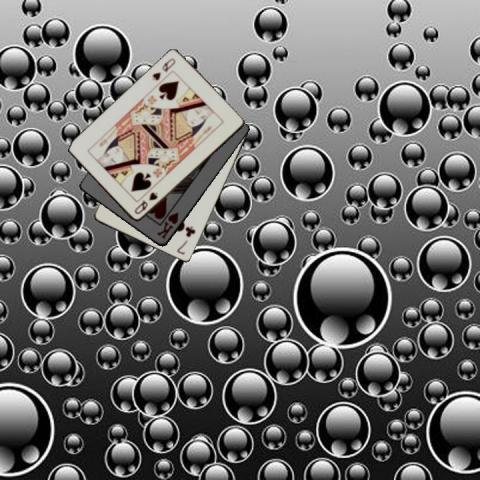7c: (174, 223, 197, 256)
Kh: (154, 209, 180, 241)
Qs: (132, 189, 160, 216), (149, 55, 177, 82)
